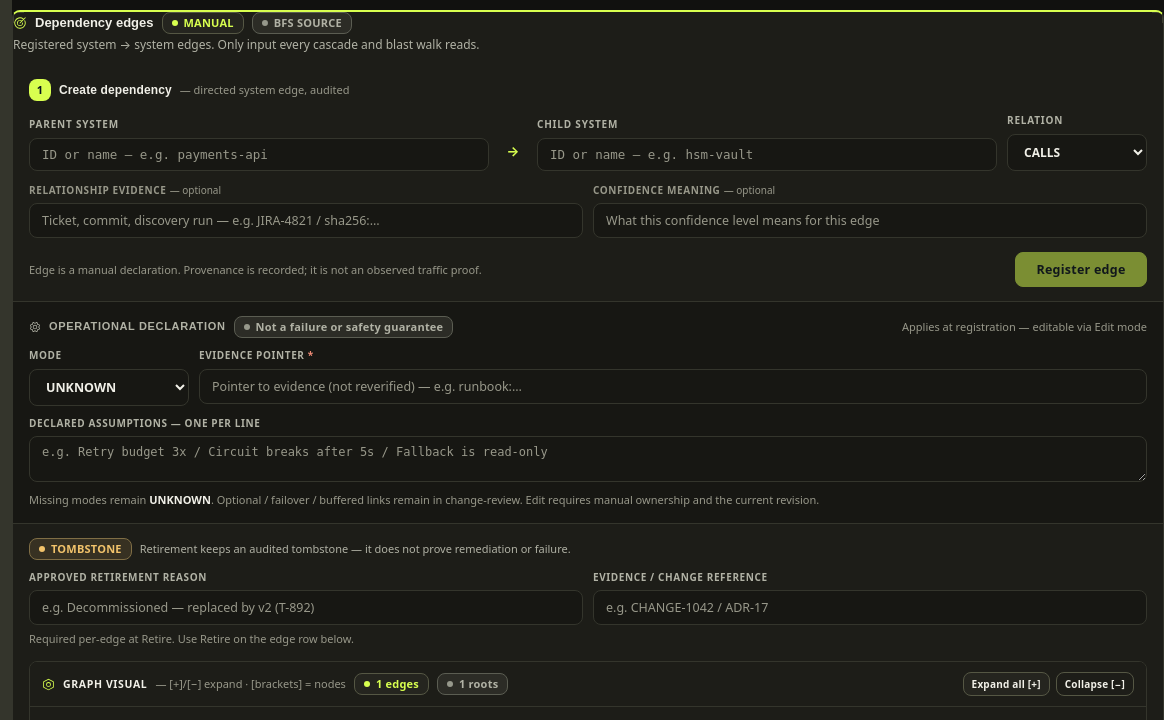
Test: requires retirement evidence and sends a revision instead of erasing rows
The image size is (1164, 720).
Step 1. Type "Approved replacement" into the field labelled "retirement reason" → (306,608), box [29,590,583,625]
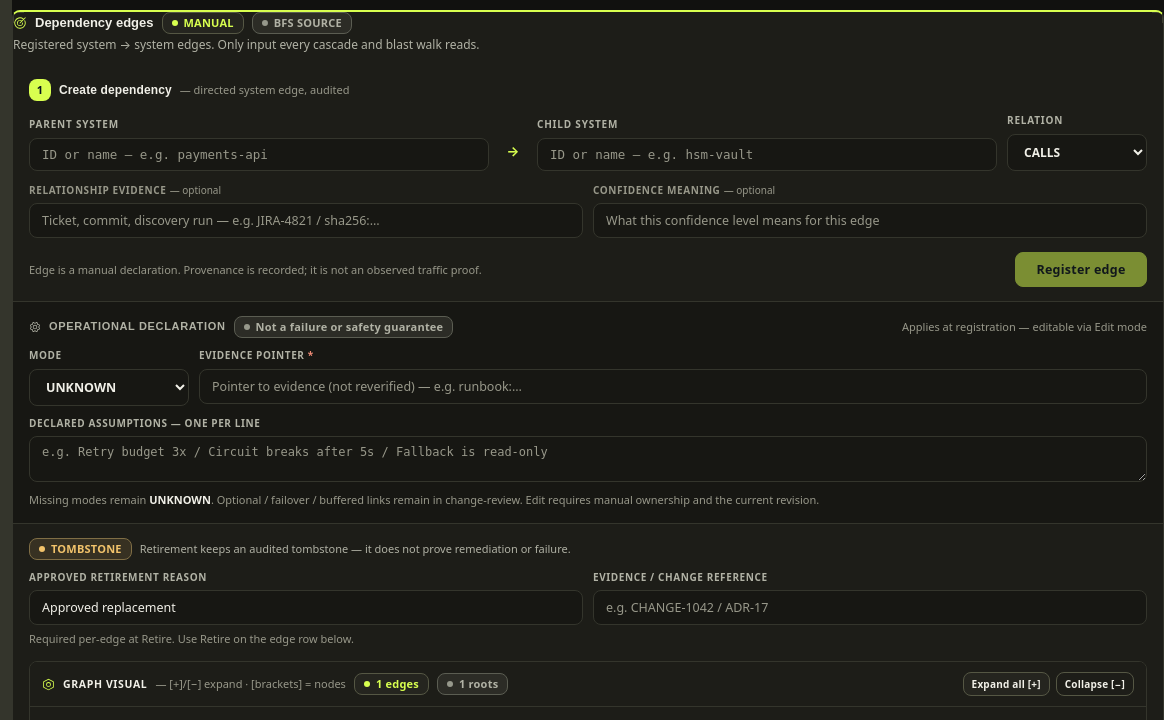
Step 2. Type "change/BANK-456" into the field named "retirement evidence reference" → (870,608), box [593,590,1147,625]
(page scrolled)
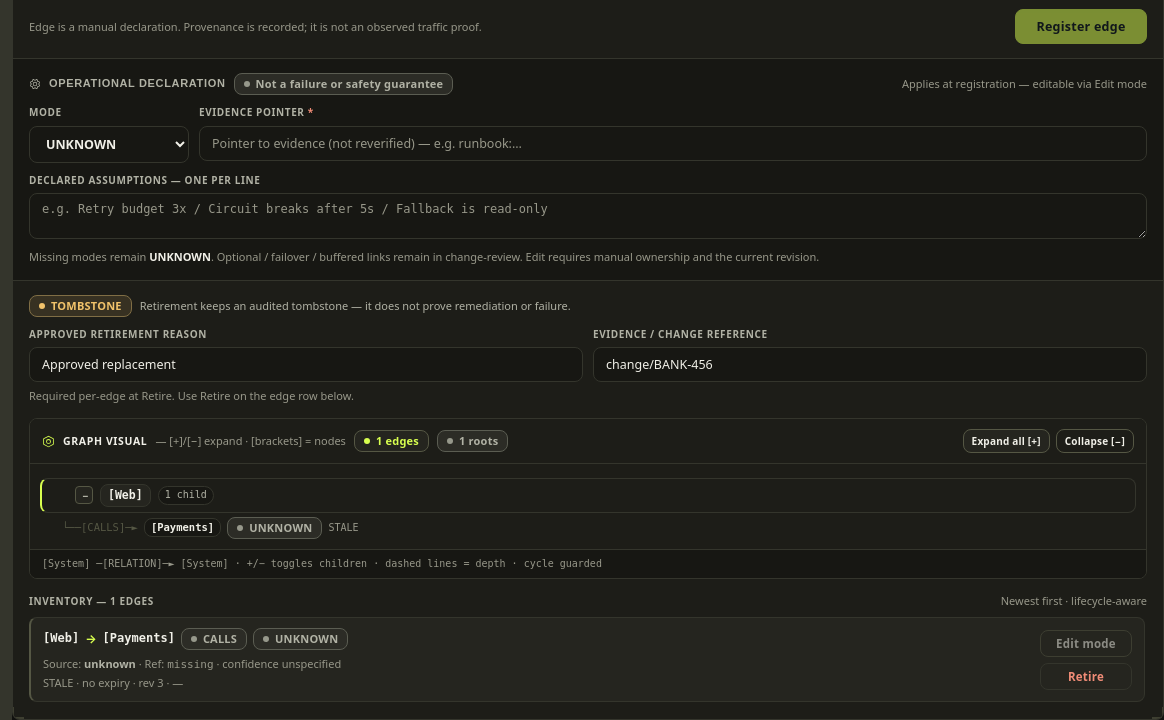
Step 3. Click the button "Retire" → (1086,676), box [1040,663,1132,690]
(page scrolled)
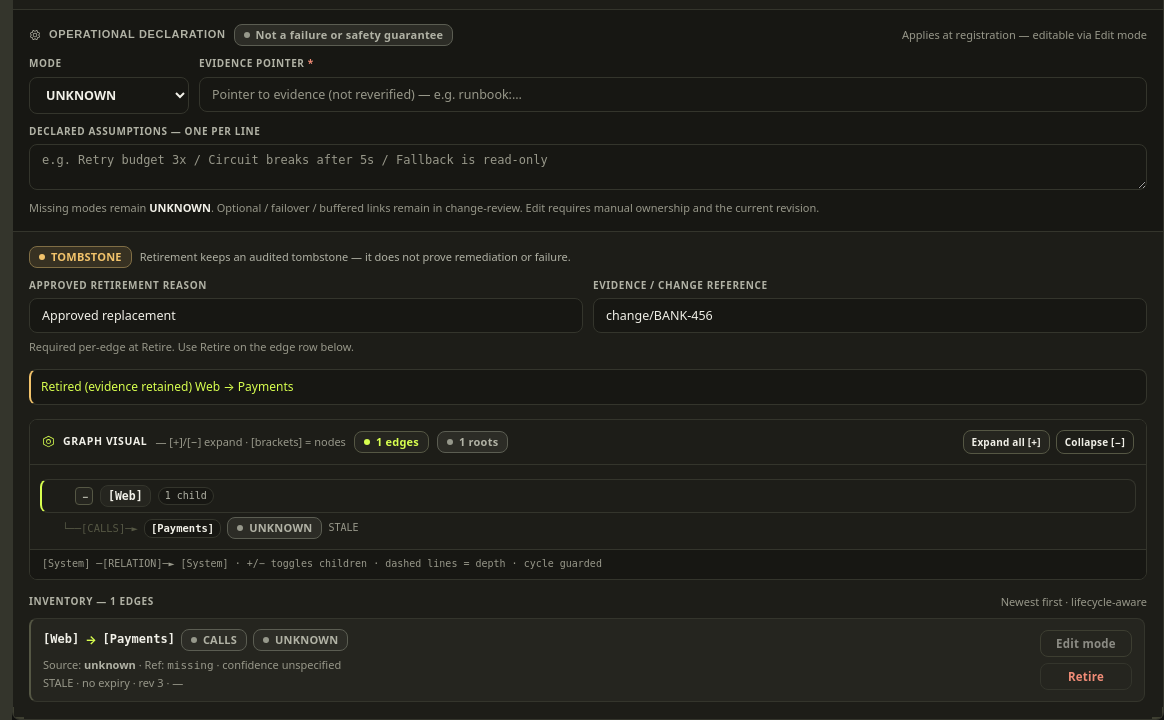
Expected: the text "Retired (evidence retained) Web → Payments" is shown, [29,369,1147,404]
